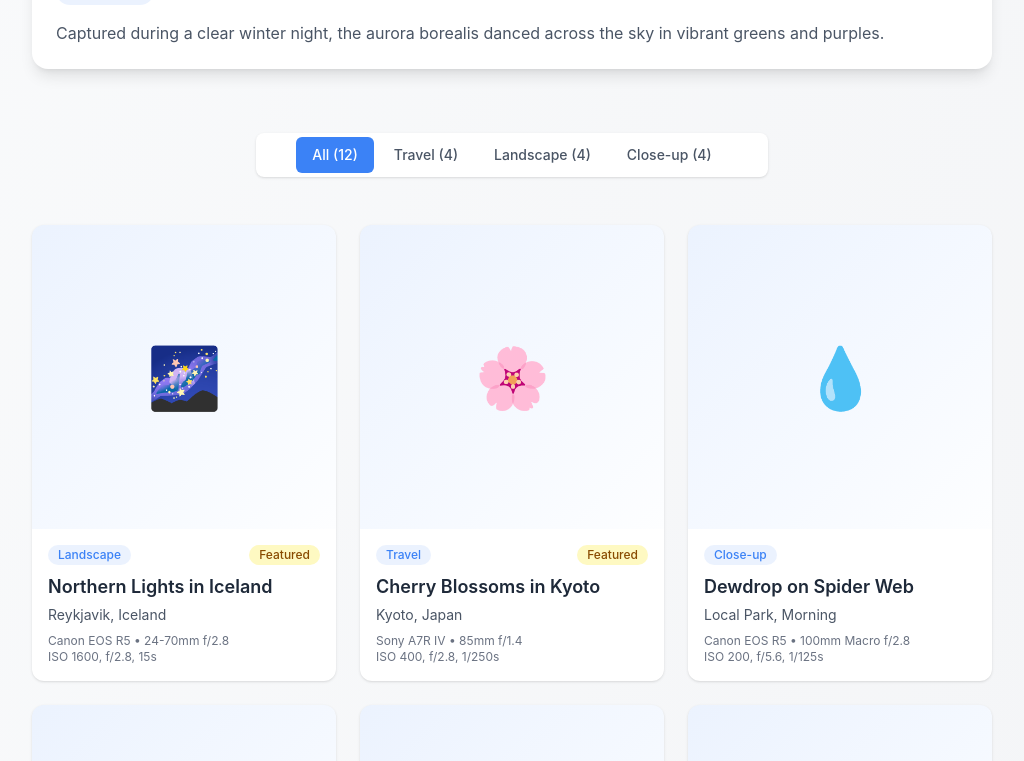
Test case: Photography Page › Modal UX Improvements › navigates to next photo with right arrow key
(page scrolled)
Click the text "🌌".
click(184, 377)  # box [146, 347, 222, 407]
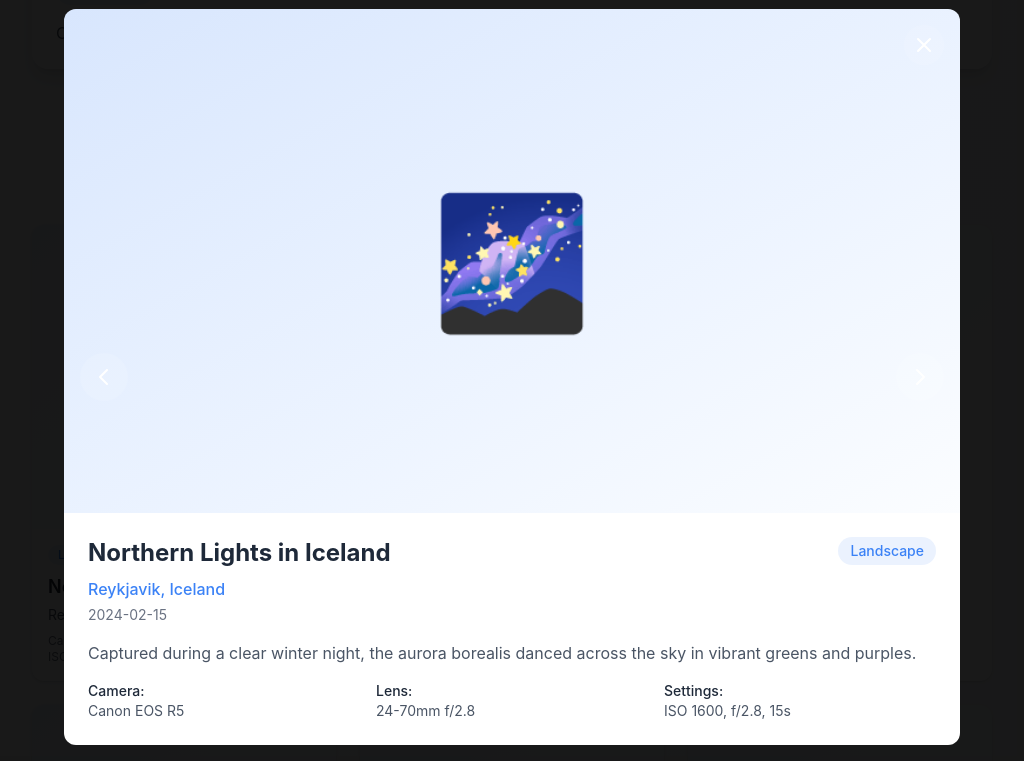
// Press right arrow key
Press Arrowright
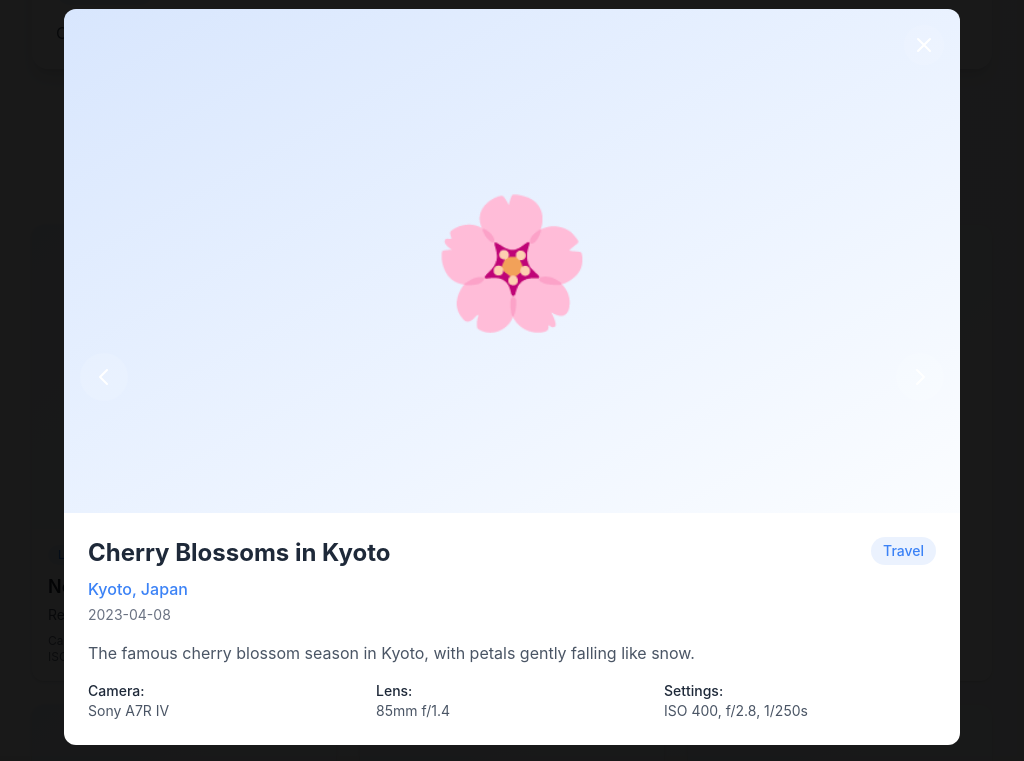
Expected: the element named "close modal" shows "🌸", [432, 183, 592, 338]
